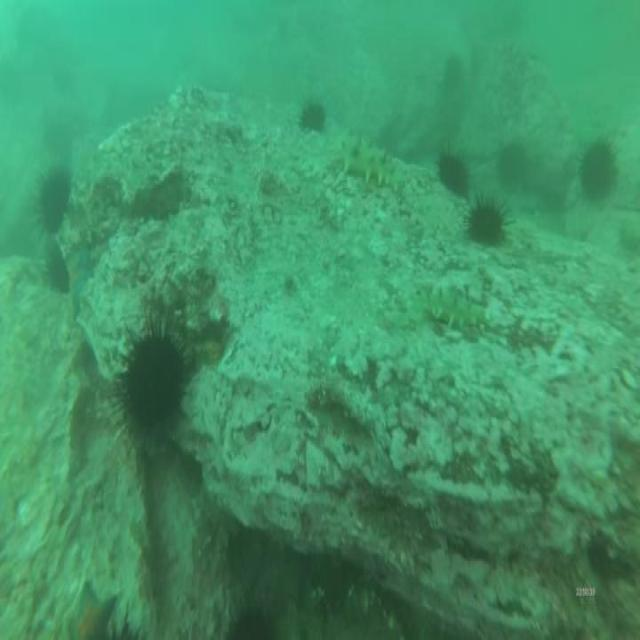echinus: (108, 308, 194, 458), (30, 163, 75, 245), (574, 133, 620, 210), (463, 188, 514, 250), (220, 597, 280, 640), (494, 137, 531, 200), (432, 142, 472, 199), (42, 242, 72, 295), (439, 48, 469, 96), (297, 95, 327, 136)
holothurian: (335, 128, 407, 194), (417, 282, 493, 342)
starfish: (65, 578, 116, 640)
